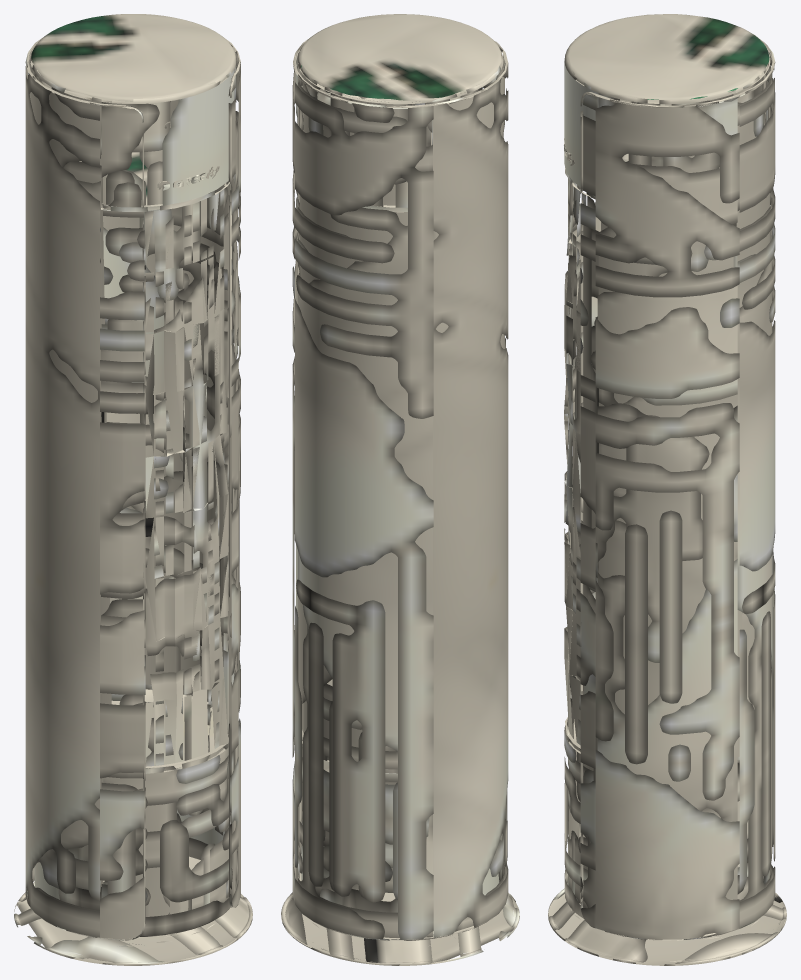
The picture shows the model from 3 angles, left to right: view 1: azimuth 30°, elevation 25°; view 2: azimuth 150°, elevation 25°; view 3: azimuth 270°, elevation 25°; orthographic projection.
Parts seen in each view (by area): view 1: solid_001, solid_007, solid_006, solid_003, solid_005, solid_008, solid_004, solid_002; view 2: solid_001, solid_003, solid_007, solid_004, solid_002, solid_008; view 3: solid_001, solid_007, solid_003, solid_004, solid_006, solid_002, solid_005, solid_008.
Part boxes in pixels (bbox=[...]): solid_001: bbox=[25, 42, 240, 939]; solid_007: bbox=[30, 60, 236, 936]; solid_006: bbox=[145, 193, 228, 765]; solid_003: bbox=[30, 14, 236, 103]; solid_005: bbox=[145, 187, 224, 766]; solid_008: bbox=[37, 70, 230, 914]; solid_004: bbox=[14, 892, 252, 965]; solid_002: bbox=[25, 37, 240, 940]; solid_001: bbox=[292, 50, 508, 939]; solid_003: bbox=[297, 14, 503, 103]; solid_007: bbox=[297, 51, 503, 934]; solid_004: bbox=[281, 892, 519, 965]; solid_002: bbox=[293, 38, 507, 940]; solid_008: bbox=[301, 76, 488, 892]; solid_001: bbox=[570, 43, 775, 939]; solid_007: bbox=[564, 52, 770, 918]; solid_003: bbox=[564, 14, 769, 104]; solid_004: bbox=[548, 888, 786, 965]; solid_006: bbox=[564, 178, 580, 741]; solid_002: bbox=[564, 34, 775, 940]; solid_005: bbox=[568, 179, 586, 745]; solid_008: bbox=[568, 74, 765, 908].
Bounding box in the file's own units: 0.4416 × 1.76 × 0.4416.
